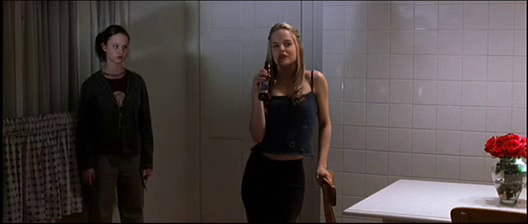face: (271, 29, 297, 67), (108, 34, 129, 63)
mls: (1, 1, 528, 224)
person: (241, 22, 333, 224), (76, 24, 153, 224)
